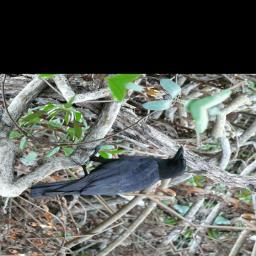Crow: (21, 114, 200, 233)
